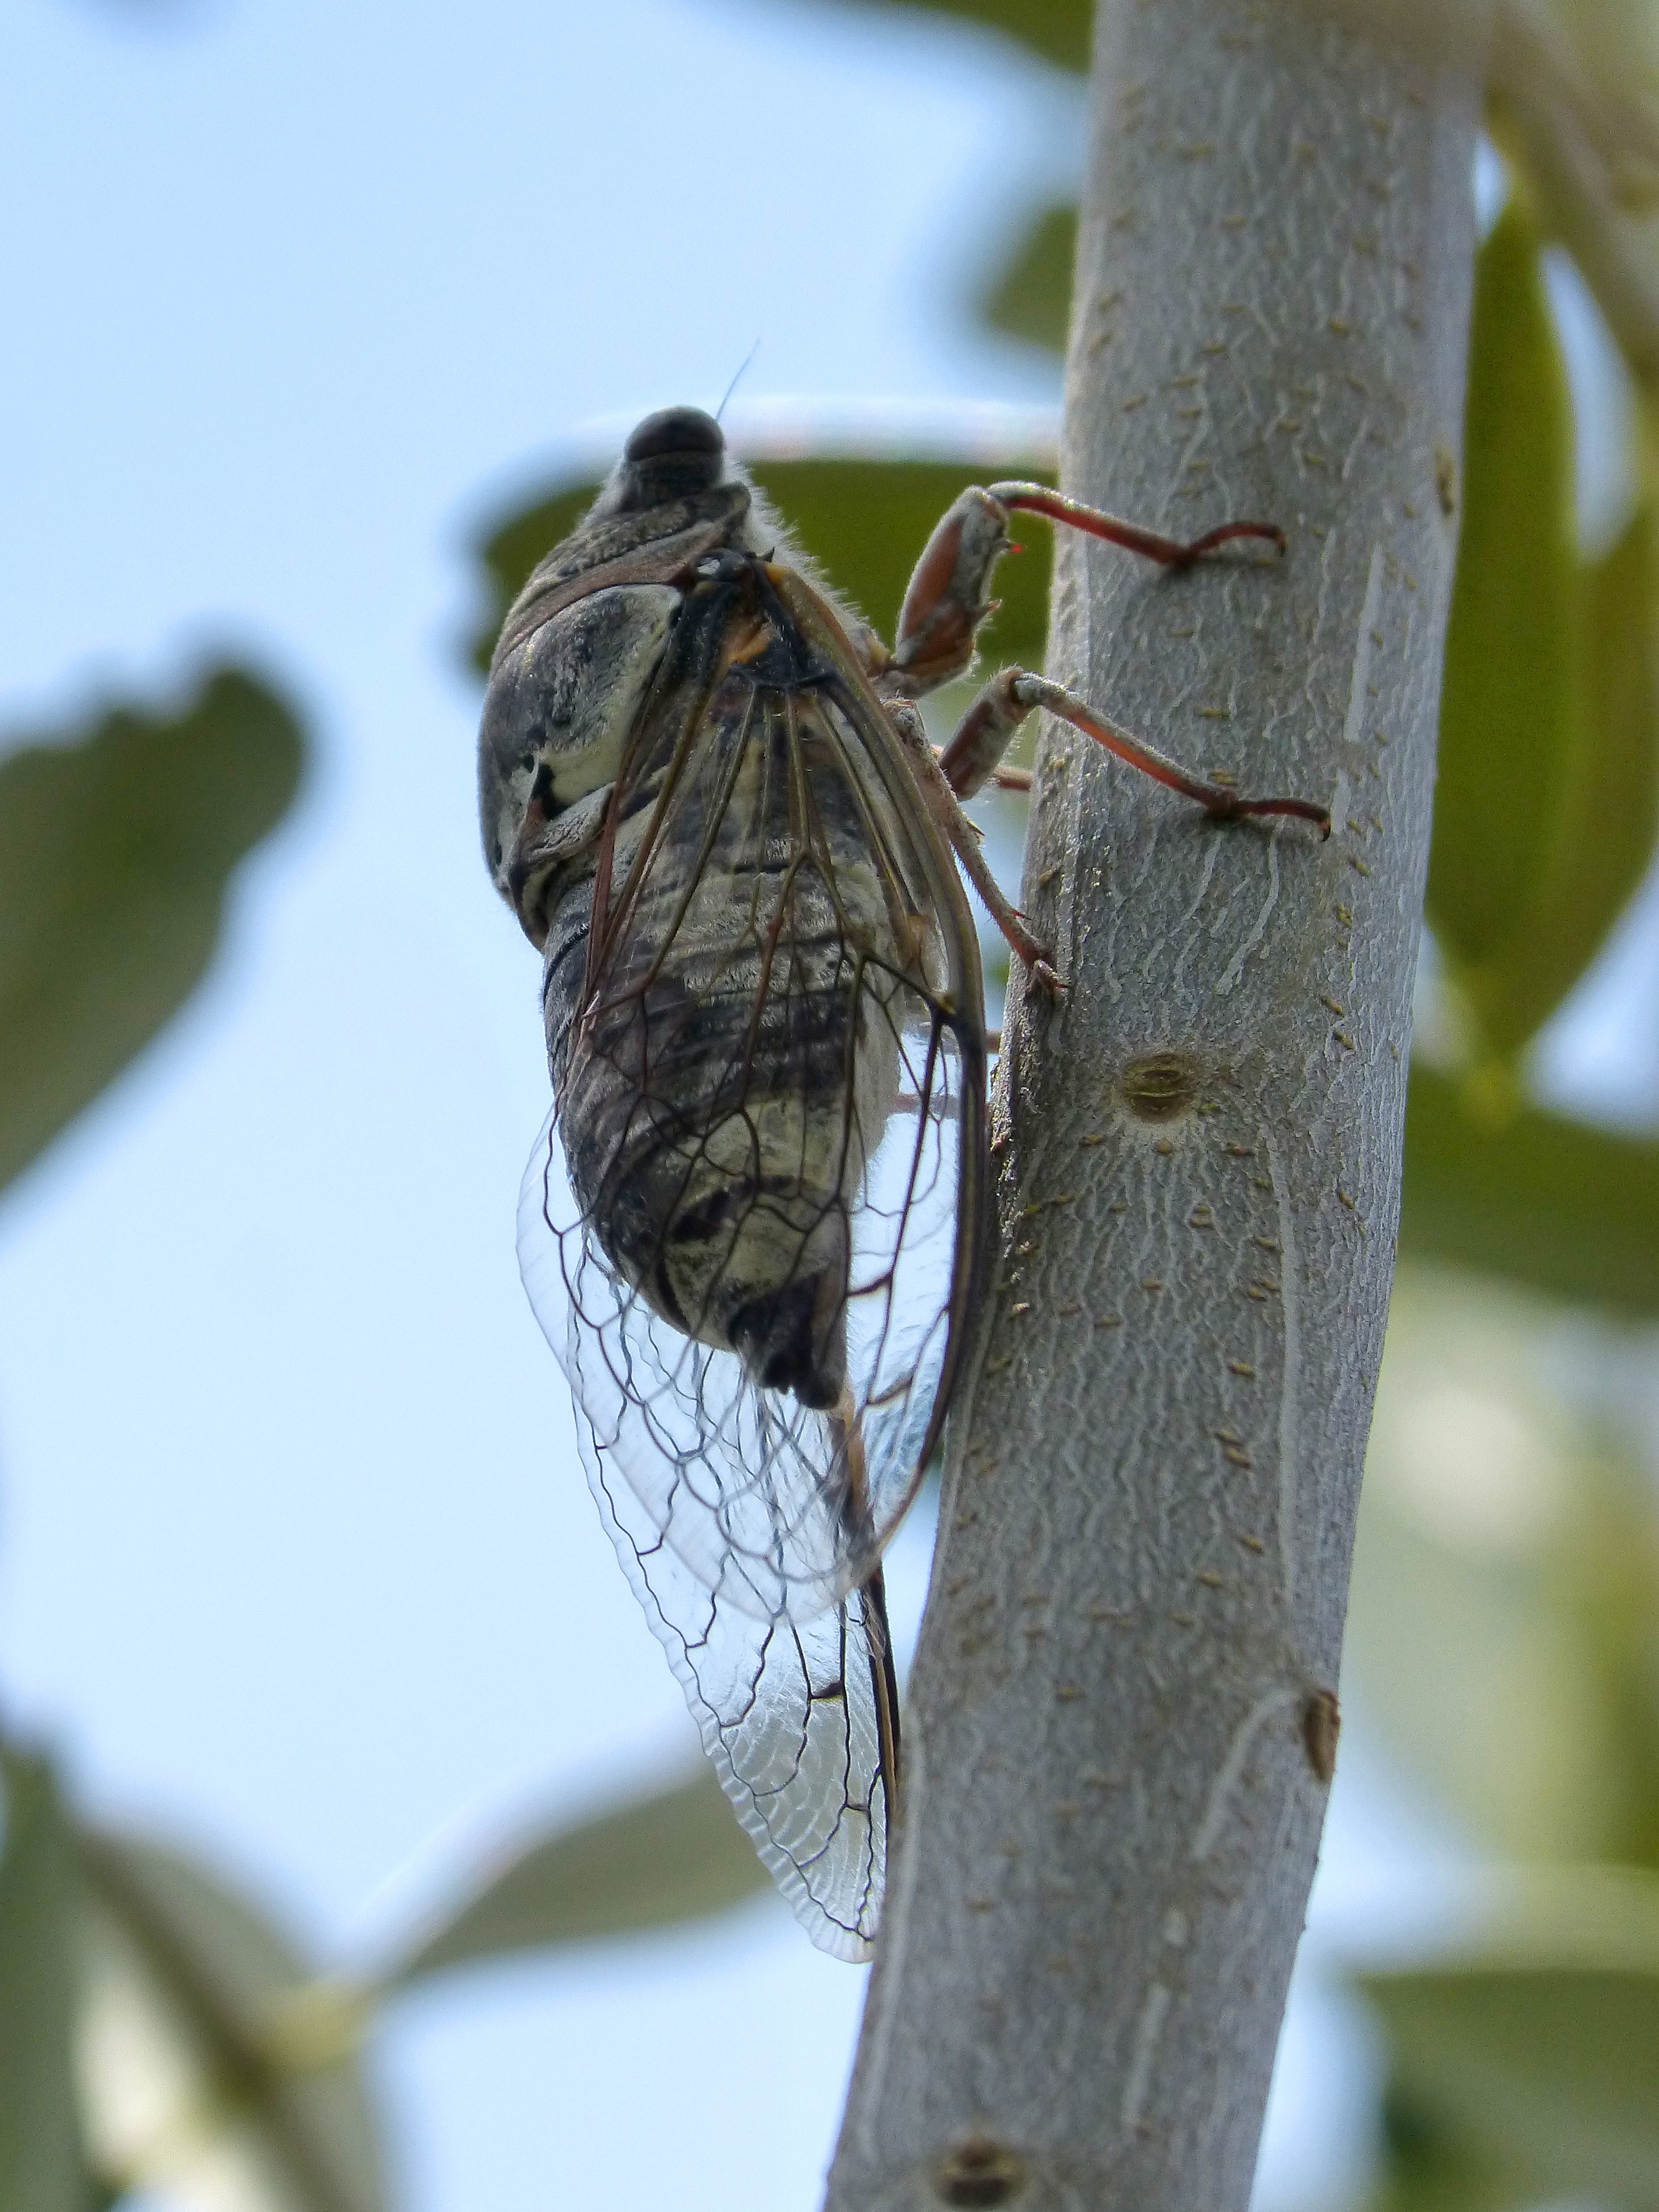chan: (458, 392, 1182, 1642)
